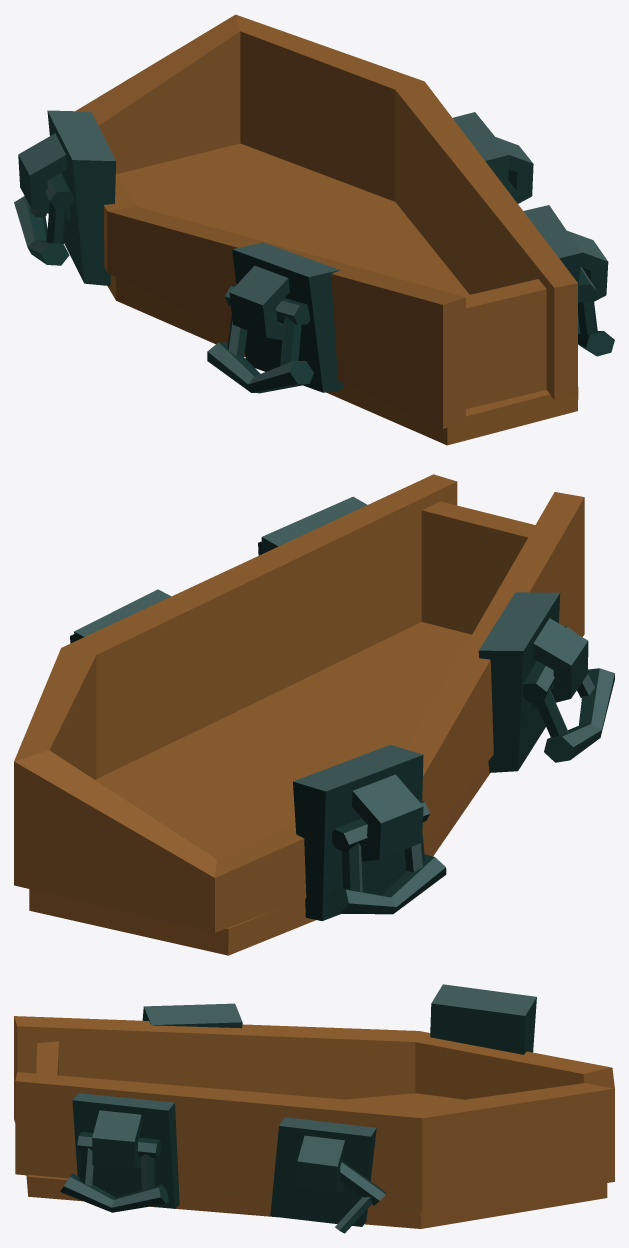
Rendered from caixao_dois.fbx.
The picture shows the model from 3 angles, top to bottom: view 1: azimuth 30°, elevation 25°; view 2: azimuth 150°, elevation 25°; view 3: azimuth 270°, elevation 25°; orthographic projection. The views are drawn at different scales.
Visible parts, largest first — view 1: caixao_dois; view 2: caixao_dois; view 3: caixao_dois.
Boxes of the visible parts, x1,y1,x2,y2 form: caixao_dois: (14, 14, 614, 445); caixao_dois: (14, 474, 614, 955); caixao_dois: (14, 984, 614, 1233).
Size of the model in its own units: 225 by 77 by 338.
